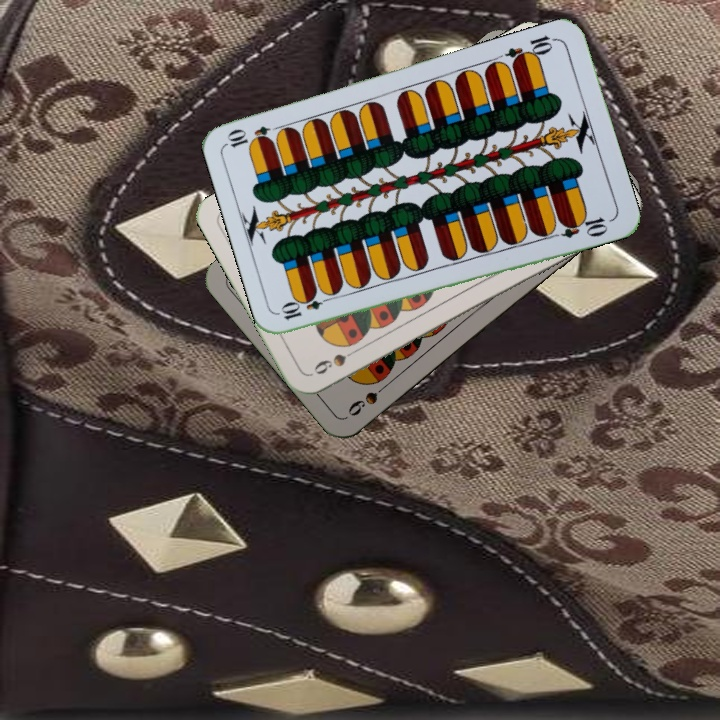E10: (502, 31, 560, 69), (278, 290, 336, 323)
S9: (343, 377, 394, 419), (309, 343, 363, 378)
